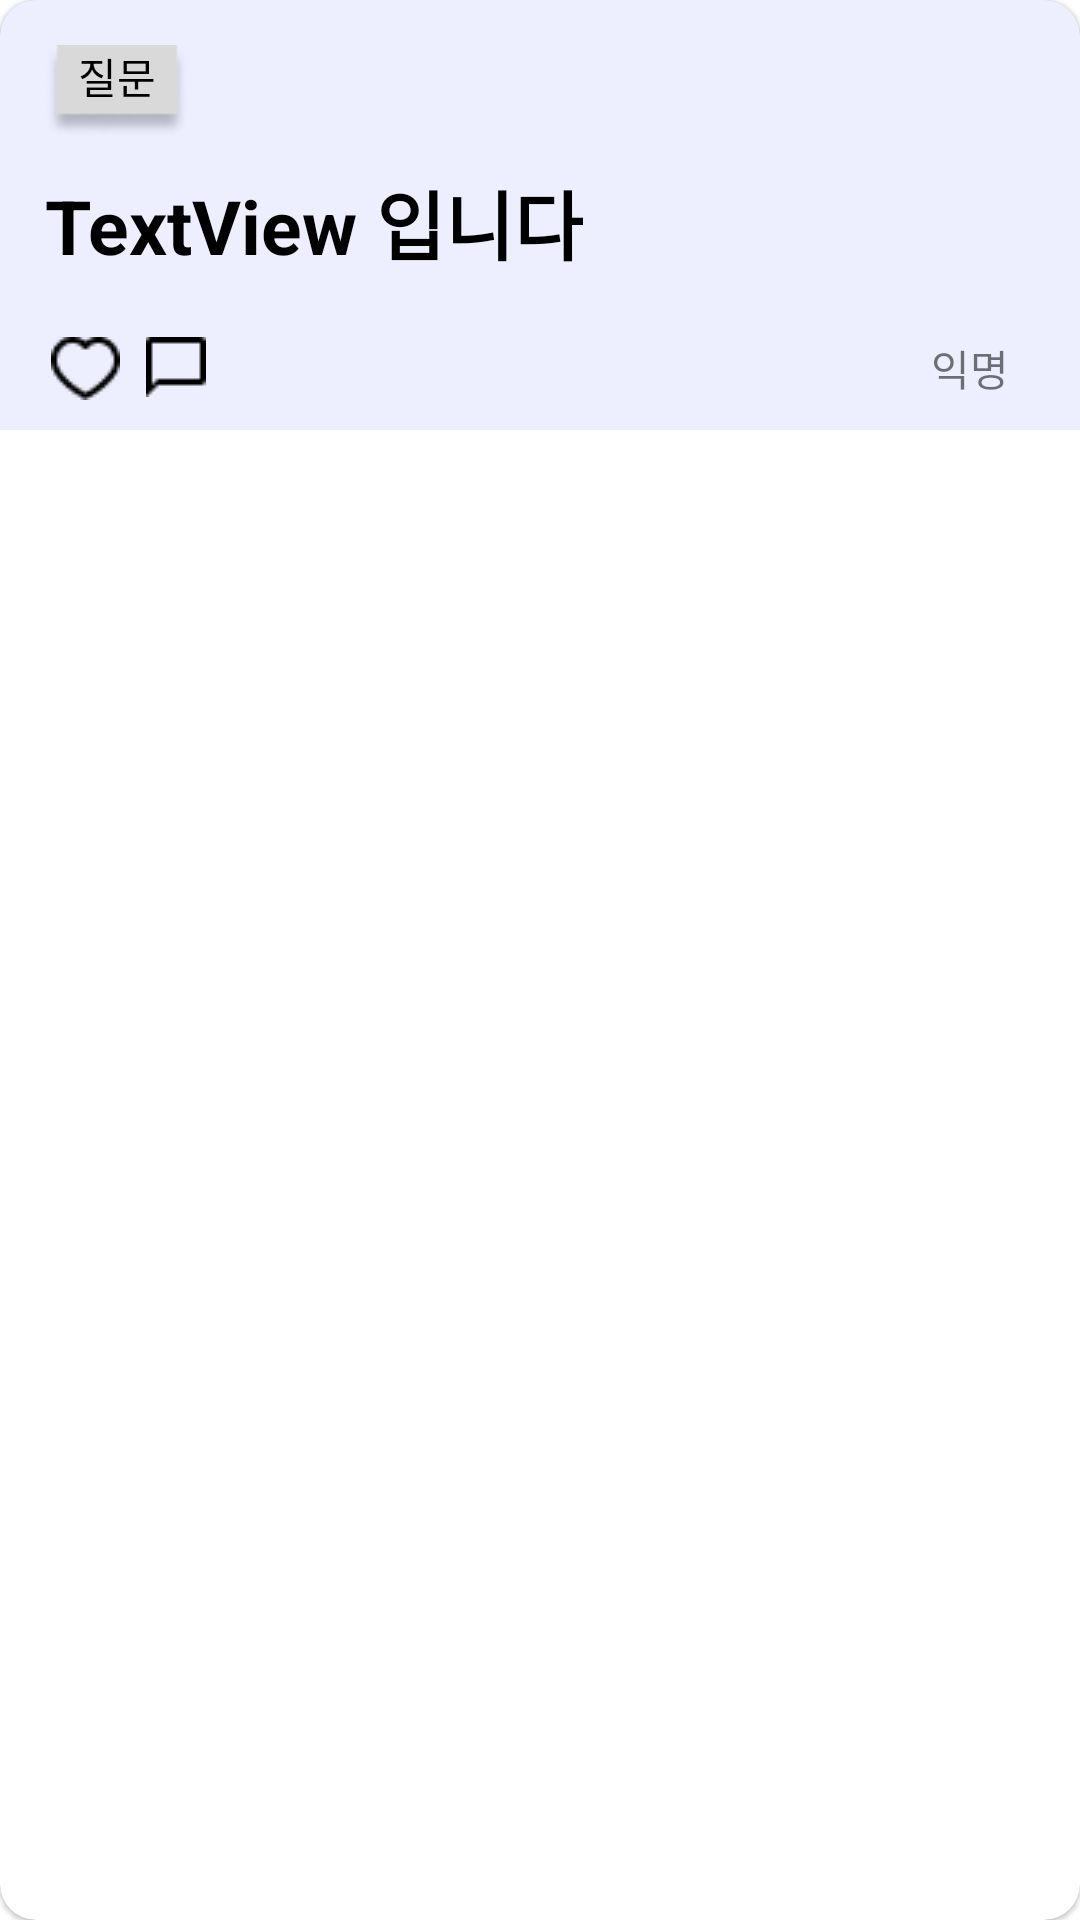

Icon bounding boxes for this 1080 × 1920 phone screenshot, format (x1, y1, x2, y2):
heart: (51, 337, 120, 400)
message: (146, 337, 206, 397)
